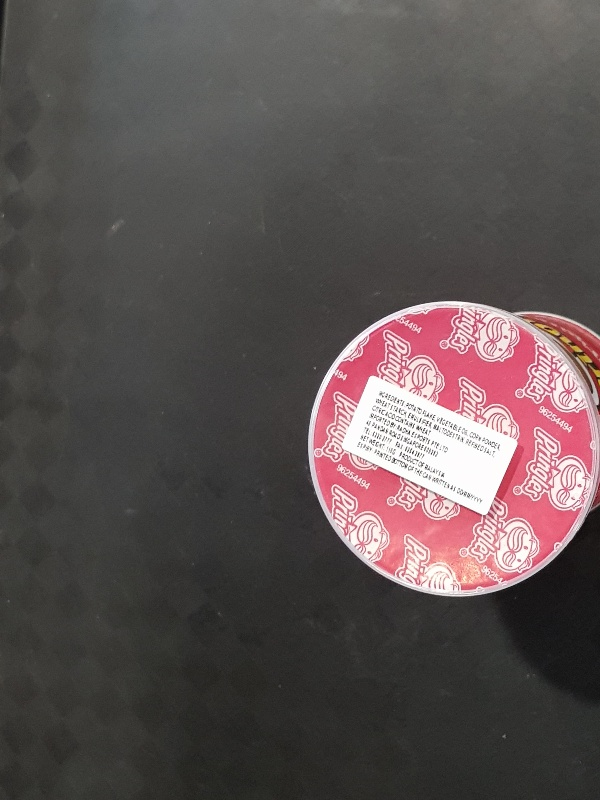Pringles Original: (305, 300, 600, 599)
